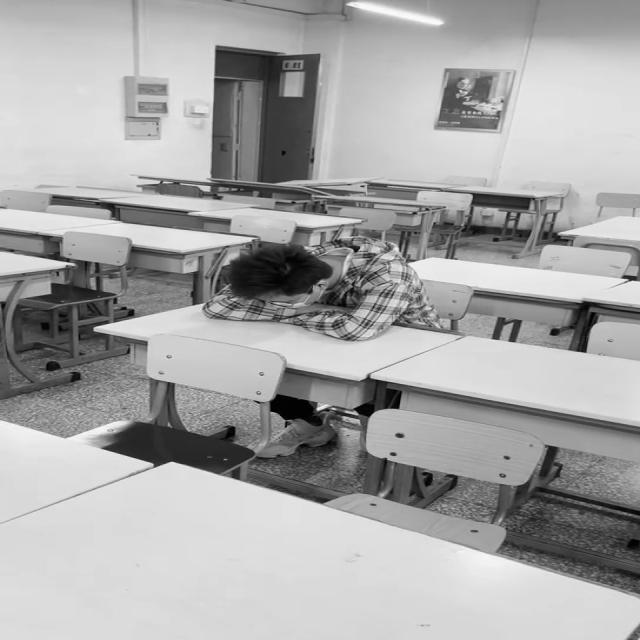sleep: (203, 243, 477, 340)
